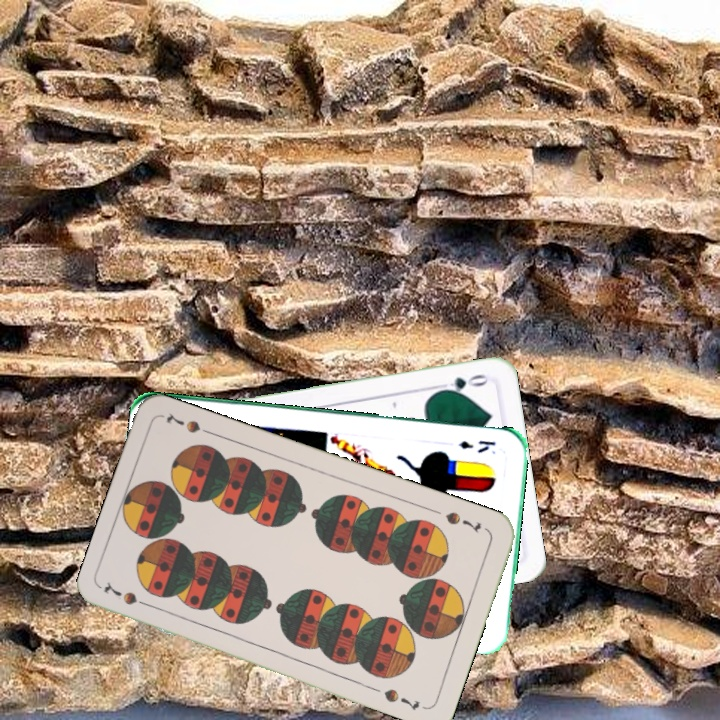EK: (454, 436, 498, 456)
GO: (433, 370, 491, 396)
S7: (99, 579, 157, 611), (441, 507, 484, 536)
